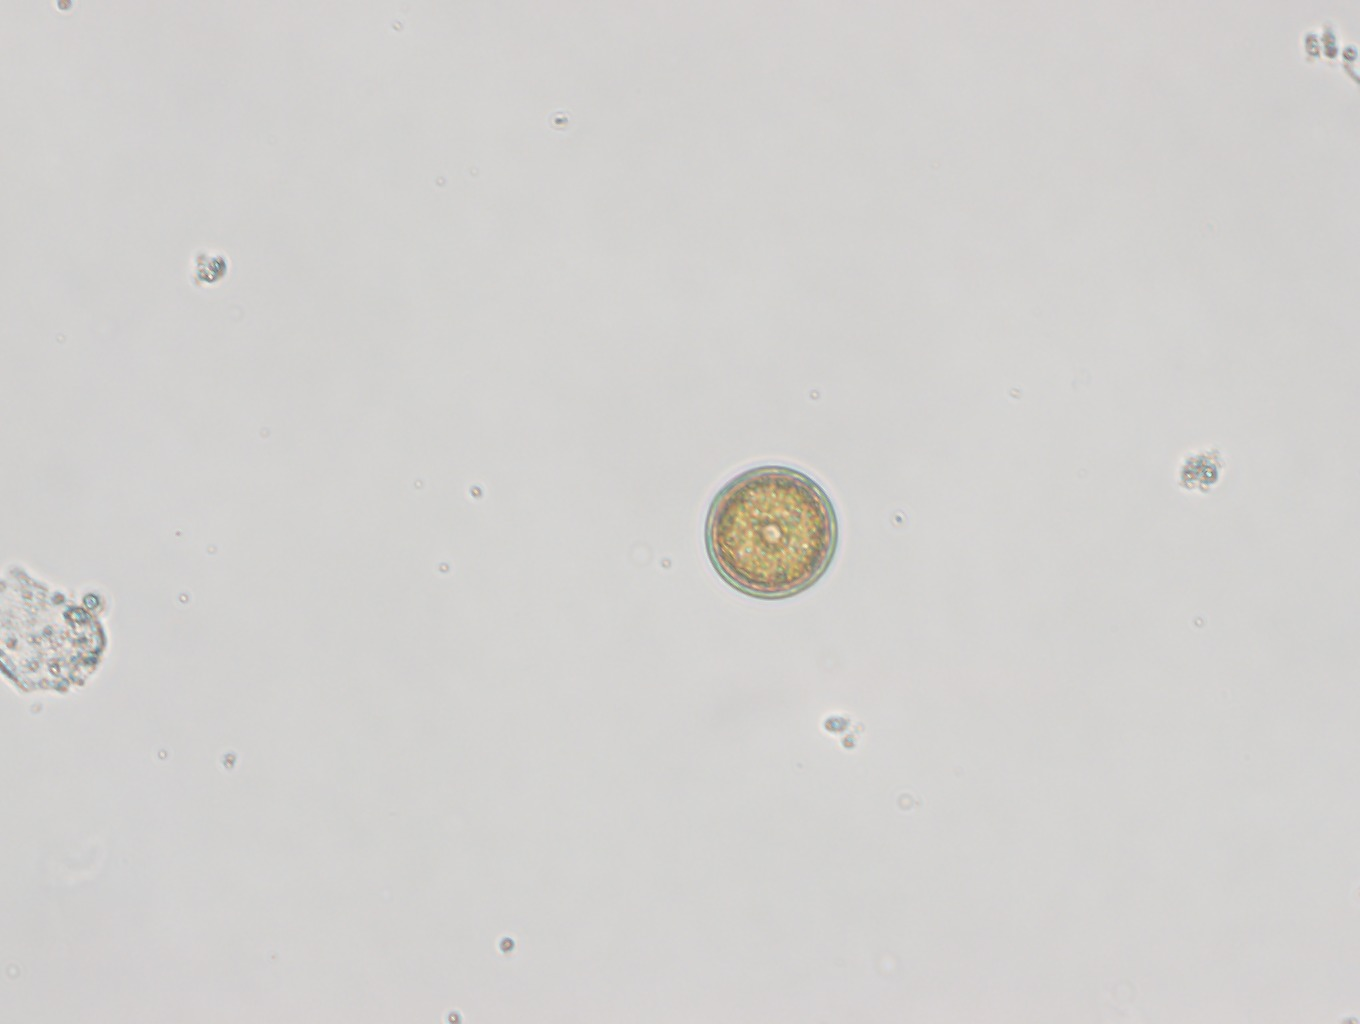coscinodiscus: (695, 463, 847, 605)
